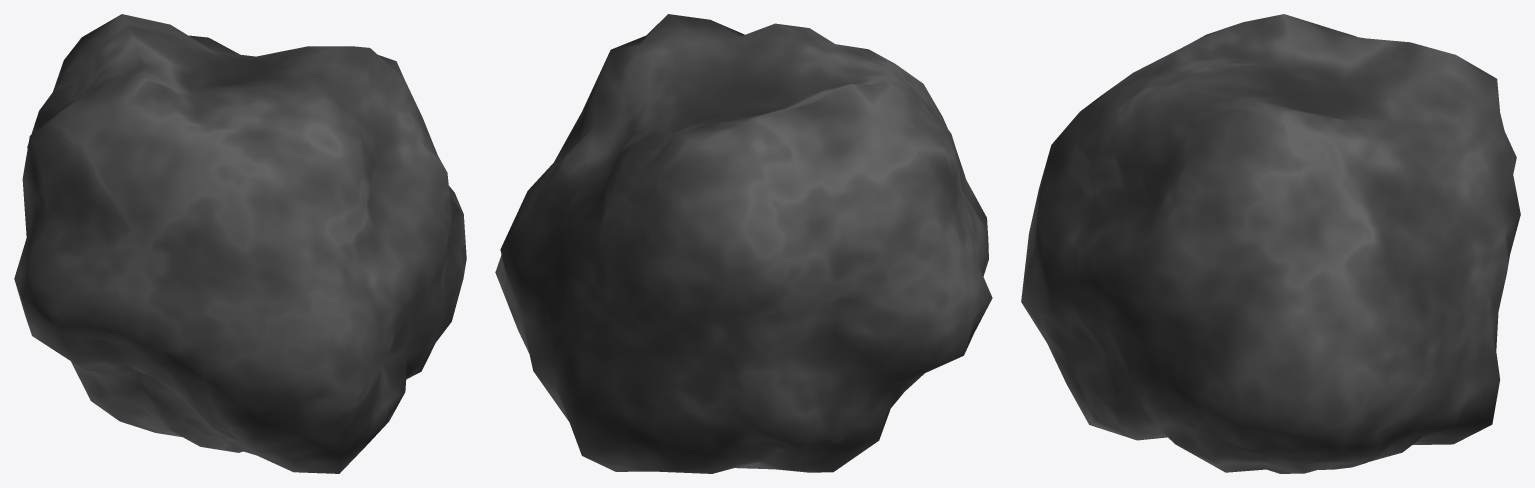
Rendered from rock_06.glb.
3 renders of one model, left to right at view 1: azimuth 30°, elevation 25°; view 2: azimuth 150°, elevation 25°; view 3: azimuth 270°, elevation 25°, orthographic. The views are drawn at different scales.
Visible parts, largest first — view 1: Object_35; view 2: Object_35; view 3: Object_35.
Part boxes in pixels (x1,y1,x2,y2): Object_35: [14, 14, 466, 473]; Object_35: [495, 14, 992, 473]; Object_35: [1021, 14, 1520, 473].
Size of the model in its own units: 3.58 by 2.89 by 3.47.
Materials: 1 (1 with a texture image).
